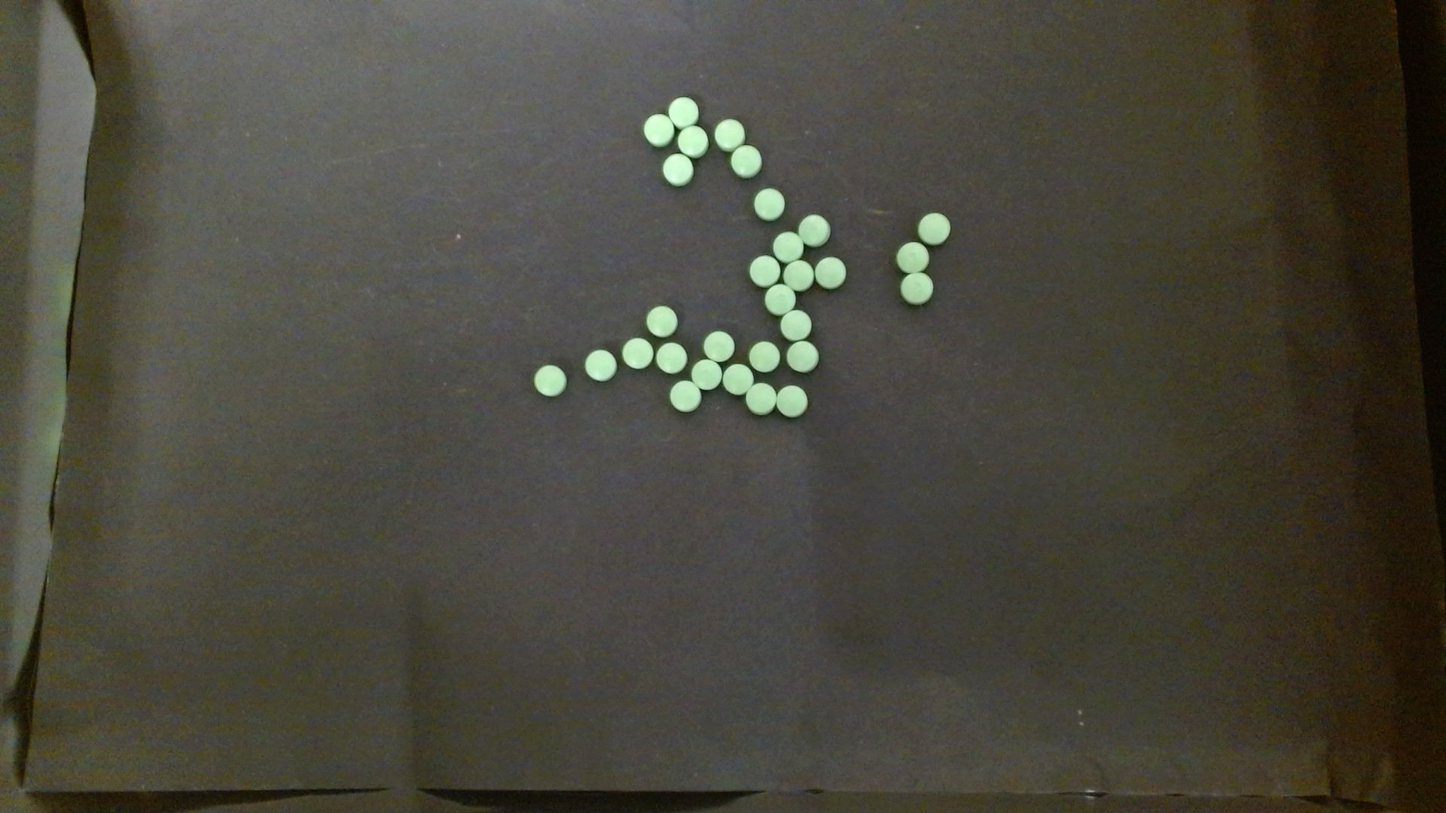Circle: (532, 364, 566, 397), (900, 272, 933, 305), (917, 212, 950, 245), (775, 385, 807, 418), (584, 349, 616, 381), (814, 257, 846, 289), (897, 241, 929, 273), (786, 340, 818, 372), (780, 309, 812, 341), (662, 153, 693, 186), (798, 213, 829, 246), (753, 187, 784, 220), (643, 114, 674, 147), (655, 342, 686, 374), (764, 283, 795, 315), (670, 379, 700, 412), (622, 337, 652, 370), (715, 118, 745, 151), (731, 145, 761, 178), (645, 305, 676, 336), (746, 383, 776, 415), (691, 359, 721, 391), (749, 254, 779, 286), (677, 125, 707, 157), (773, 231, 803, 262), (703, 330, 733, 361), (668, 96, 697, 128), (783, 260, 813, 290), (749, 342, 778, 373), (723, 364, 752, 394)
